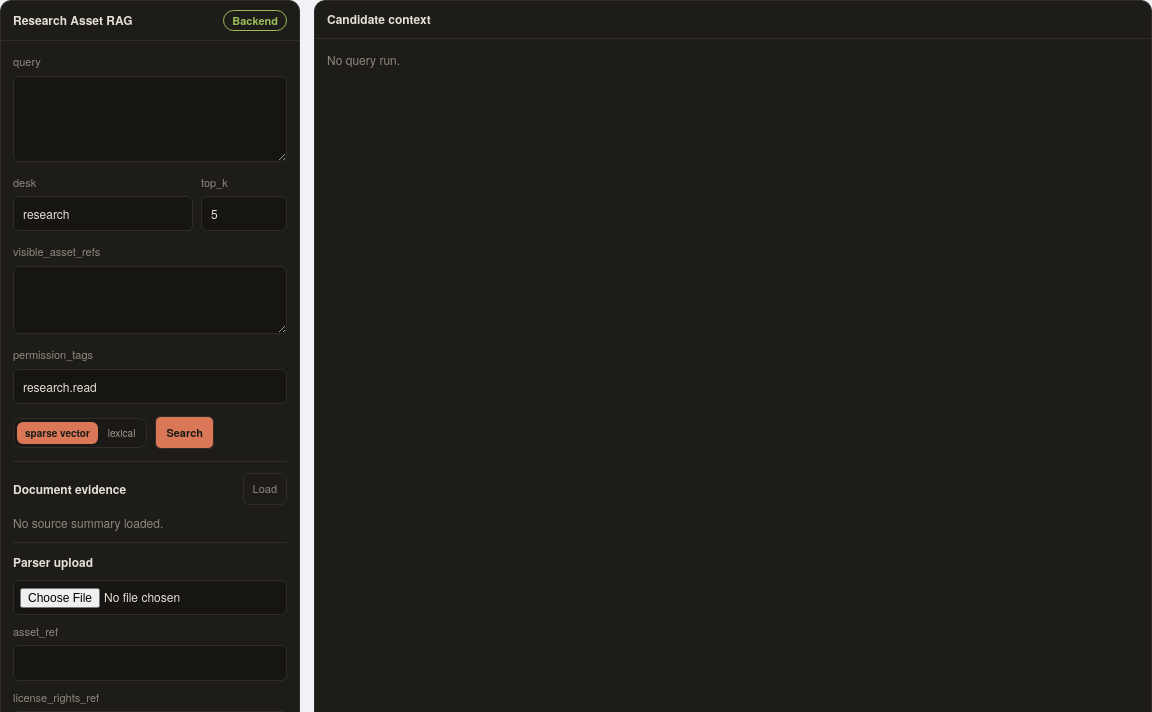
ResearchRAGPanel › requires explicit visible_asset_refs before hitting backend
Type "covariance shrinkage" into the text box with test id "rag-query" at (150,119), box x1=13 y1=76 x2=287 y2=162
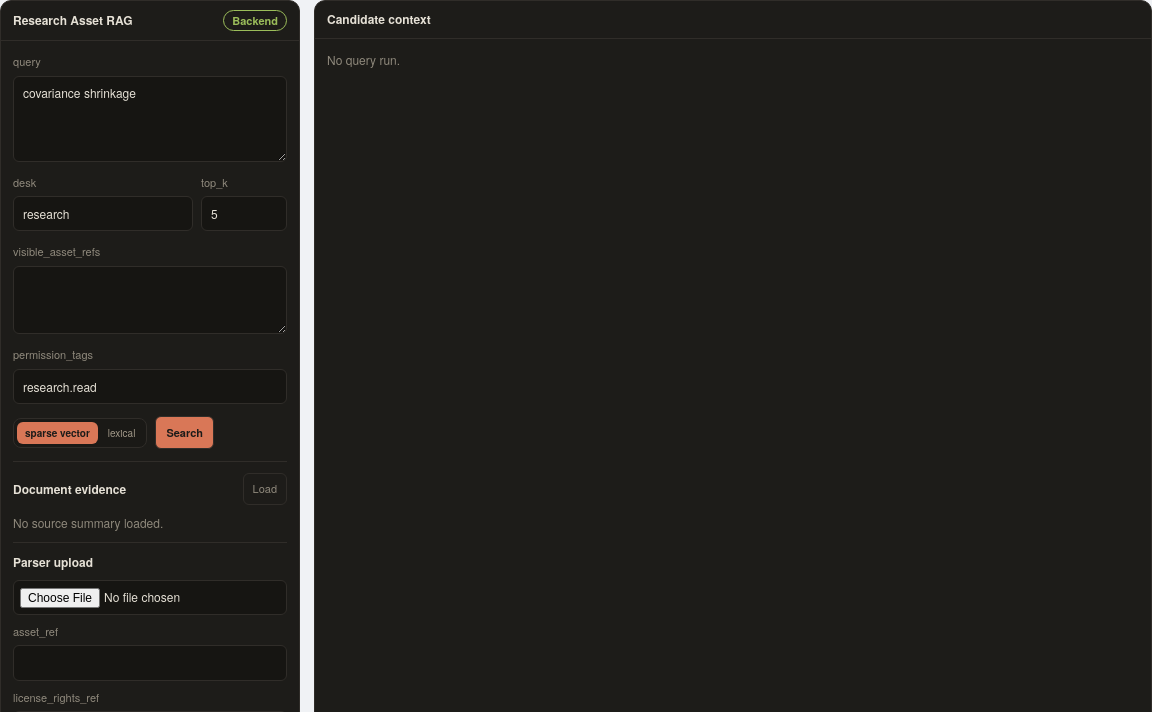
Click the button with test id "rag-submit" at (185,433), box x1=155 y1=416 x2=214 y2=450
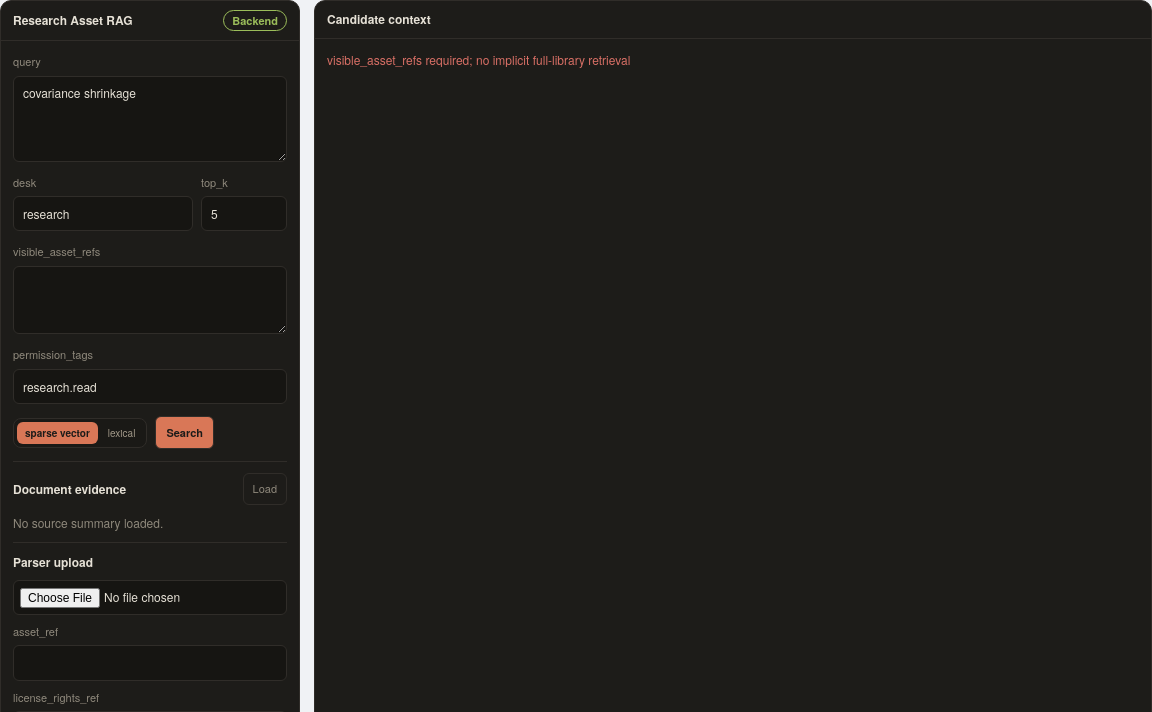
Expected: the message with test id "rag-error" shows "visible_asset_refs required", x1=327 y1=51 x2=630 y2=68
